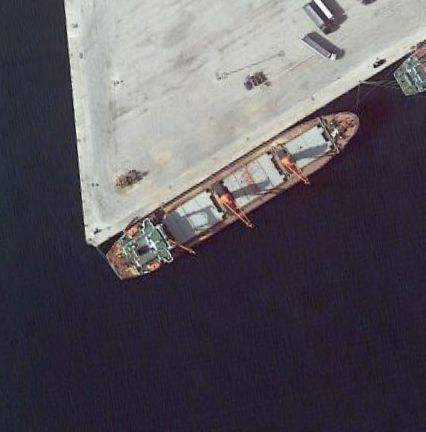boat: (105, 108, 365, 282)
